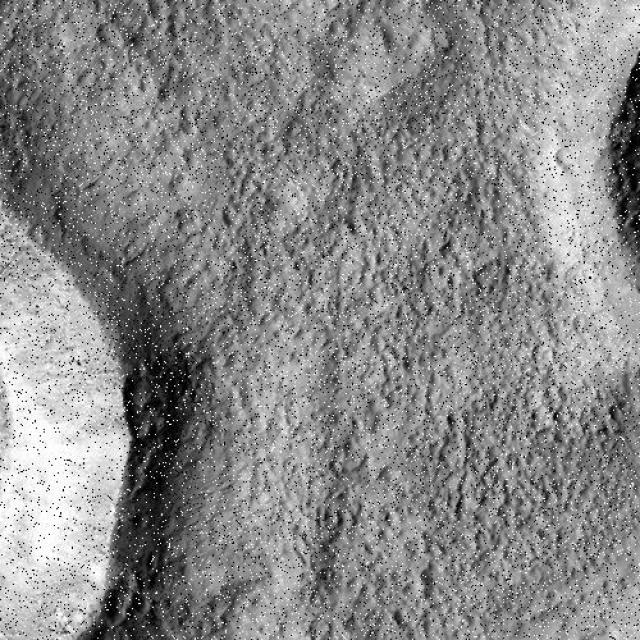crater: (0, 74, 275, 640), (0, 595, 50, 640), (401, 101, 445, 141), (548, 142, 582, 174), (605, 397, 631, 423), (128, 593, 152, 620), (125, 510, 152, 534), (154, 510, 178, 537), (84, 624, 117, 640), (139, 550, 159, 576), (388, 606, 412, 626), (326, 15, 346, 38), (608, 626, 640, 640), (190, 627, 218, 640), (290, 26, 308, 44), (602, 232, 618, 248), (517, 630, 540, 640), (318, 0, 340, 8), (58, 631, 76, 640), (579, 268, 592, 280), (590, 274, 603, 286), (0, 88, 9, 105), (590, 260, 602, 272), (130, 0, 153, 6), (0, 0, 8, 12), (578, 240, 588, 248)
